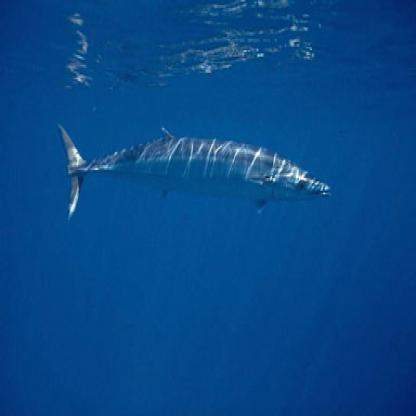Scombridae -Tunas-: (58, 116, 333, 232)
